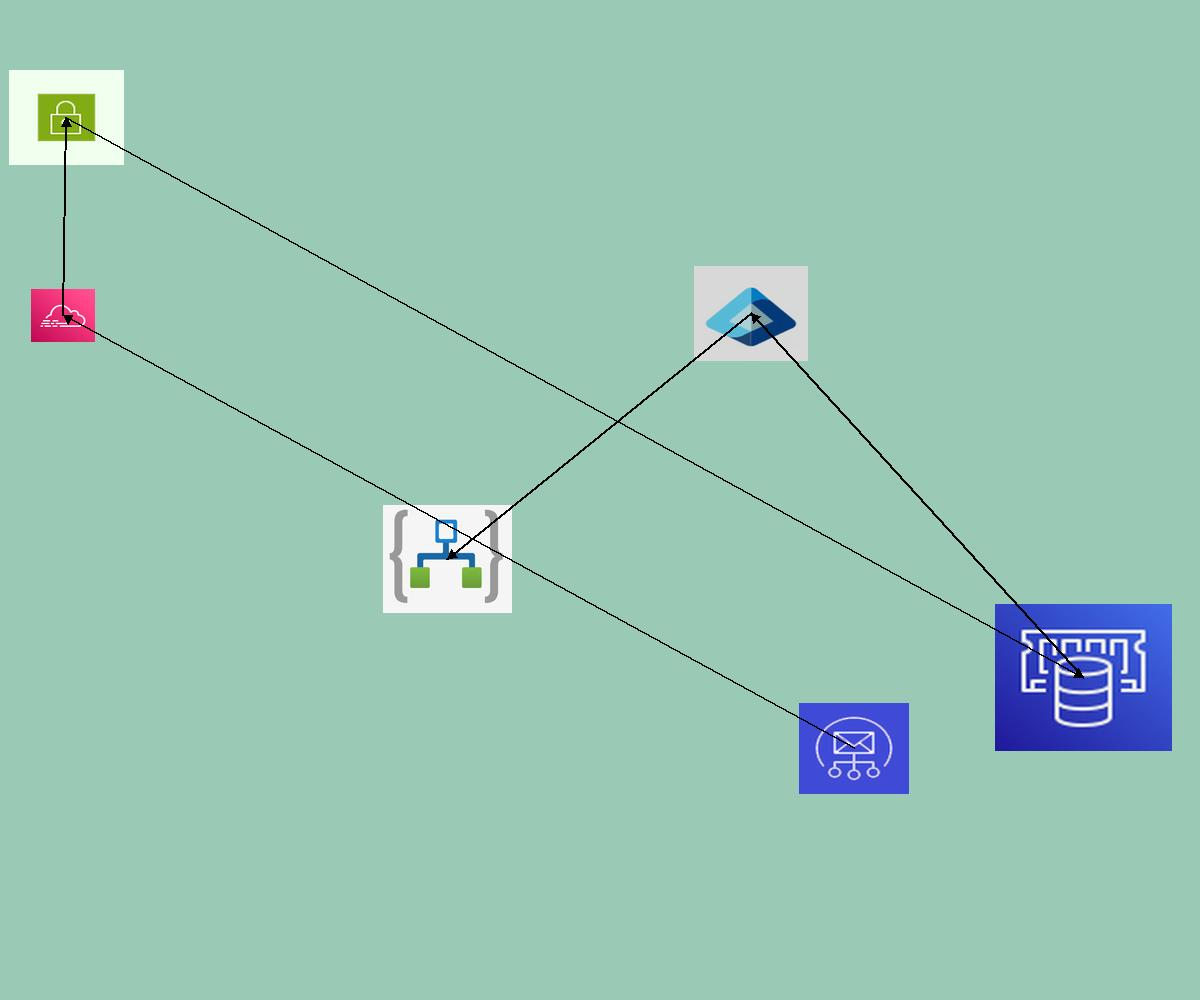AWS-CloudTrail: (31, 289, 95, 342)
AWS-ElastiCache: (995, 604, 1172, 751)
AWS-Public-subnet: (9, 70, 124, 165)
AWS-Simple-Email-Service: (799, 703, 909, 794)
Azure_integration-204-Logic-Apps: (383, 505, 512, 613)
Azure_microsoft_entra: (694, 266, 808, 361)
